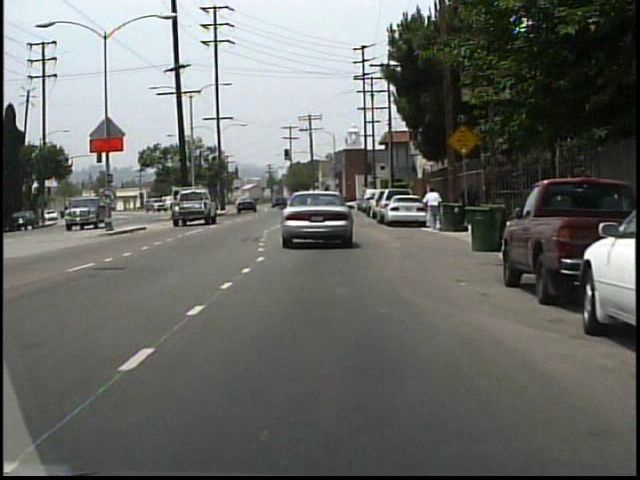person: (423, 187, 443, 233)
